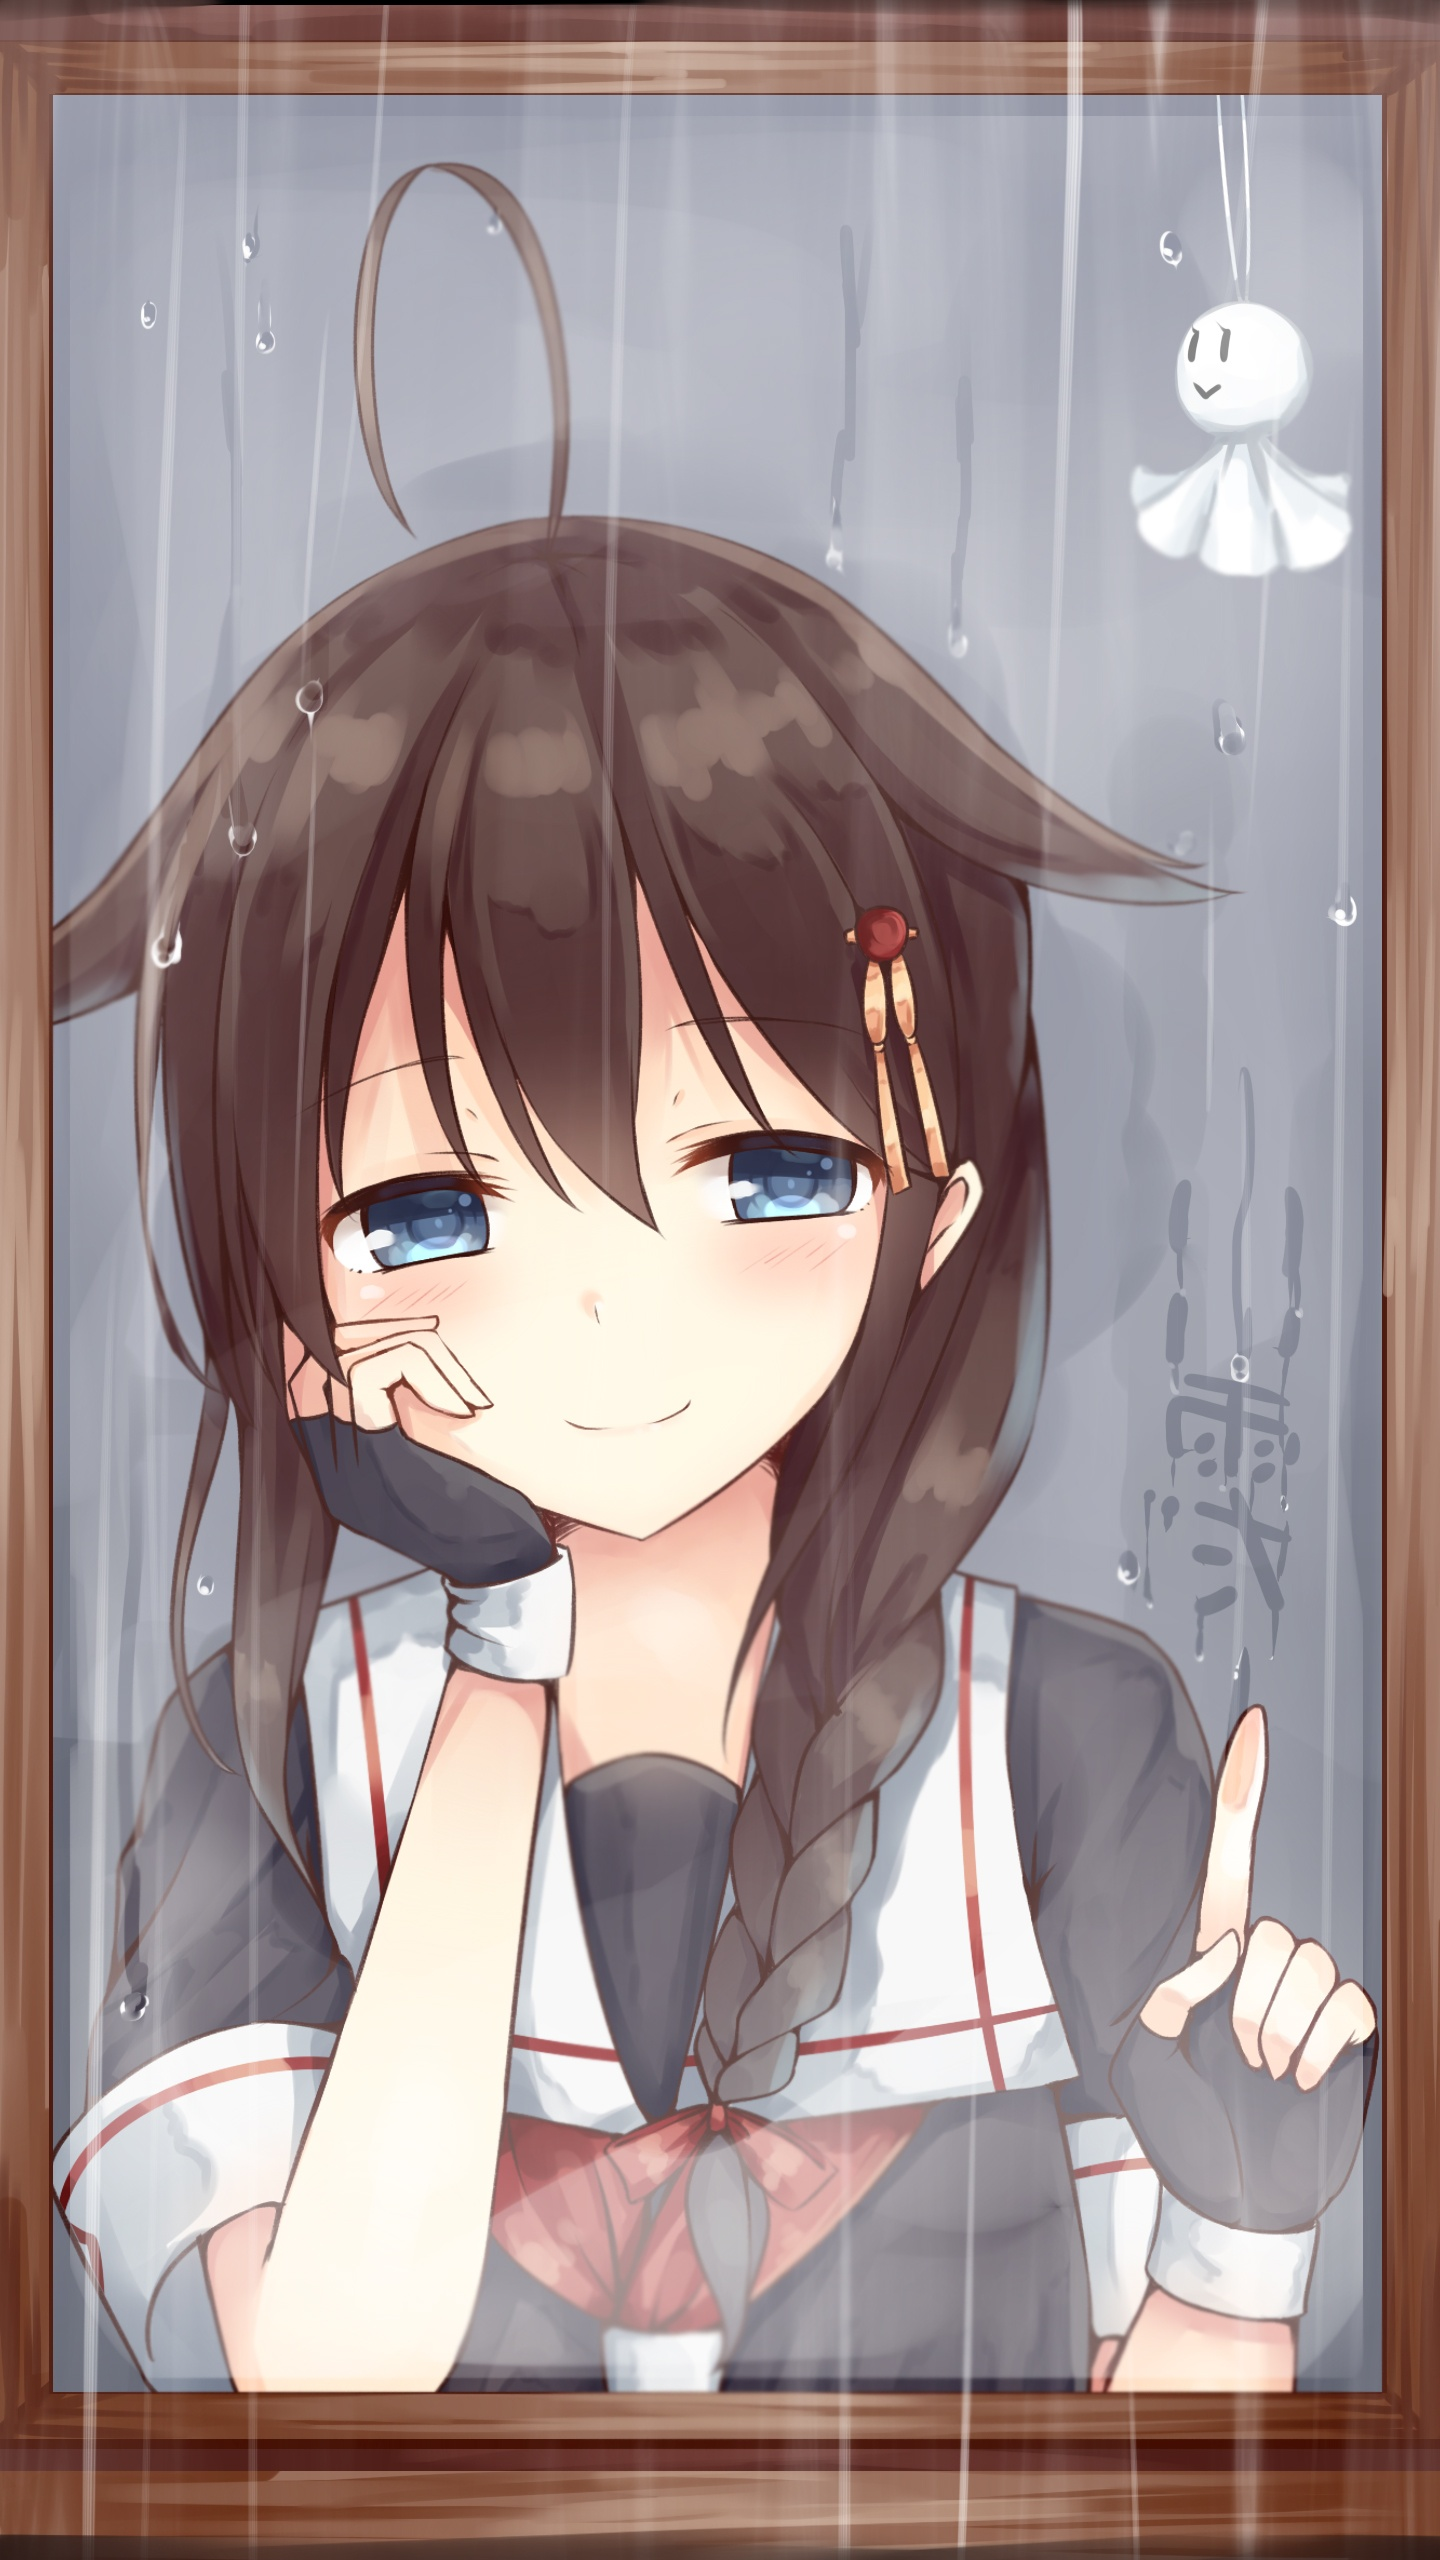纸片人正脸: (165, 468, 1084, 1576)
